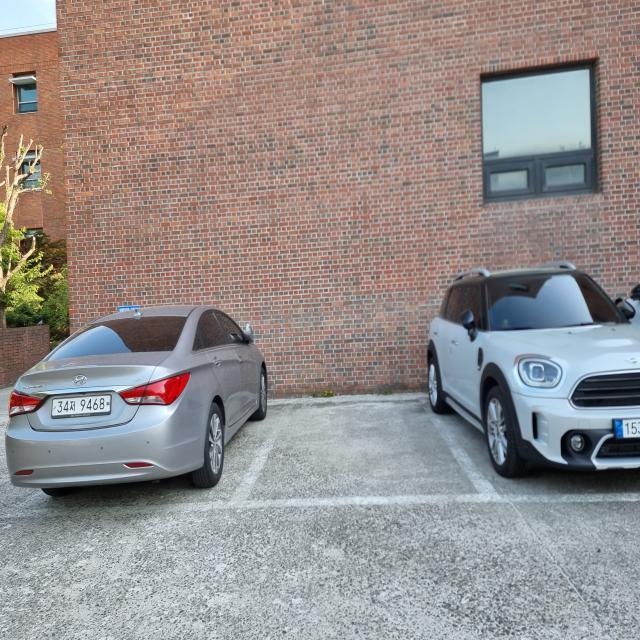Car: (5, 306, 274, 494), (430, 278, 640, 476)
Vacant: (275, 392, 433, 509)
